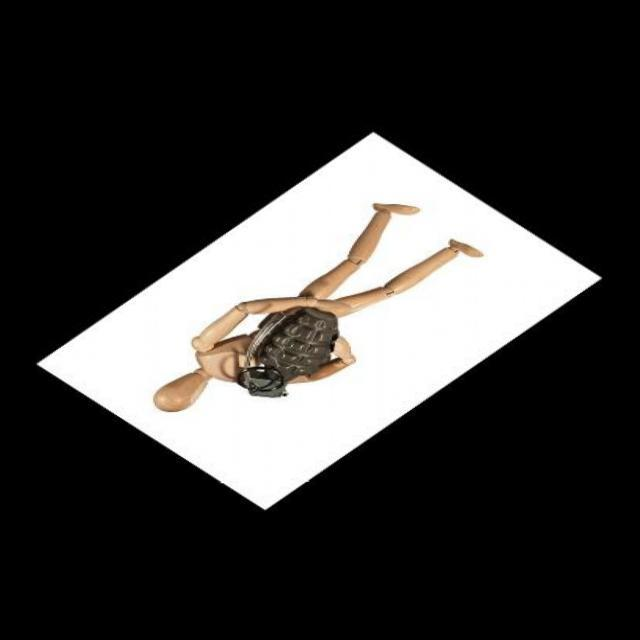grenade: (235, 308, 342, 408)
